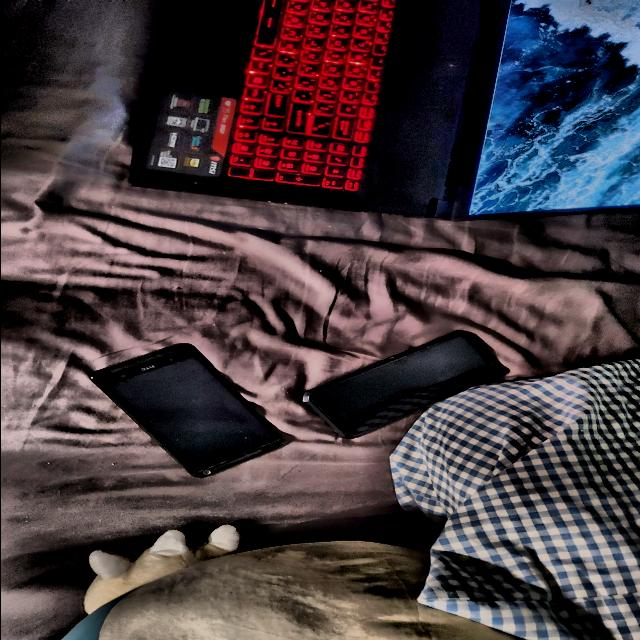Laptop: (130, 0, 640, 221)
PHONE: (91, 343, 286, 478), (302, 330, 506, 439)
